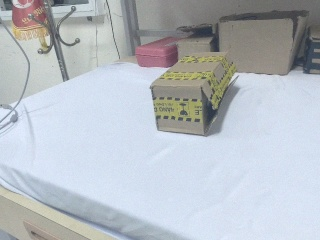box: (151, 52, 236, 135), (218, 10, 308, 74), (303, 24, 320, 75)
